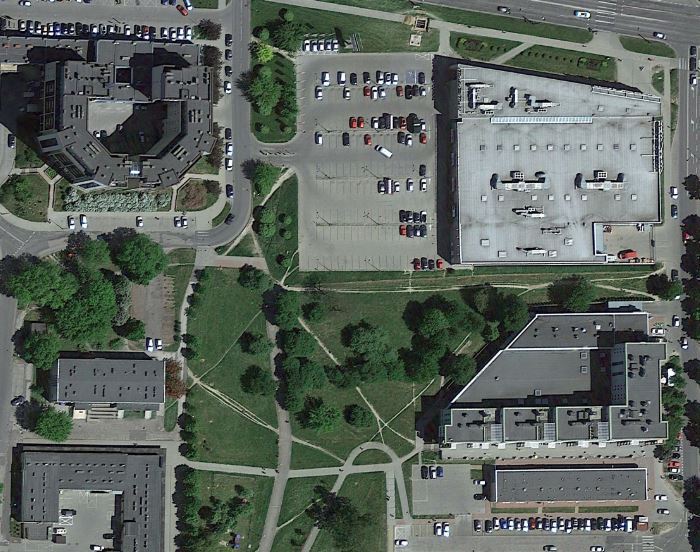block of flats: (431, 306, 671, 454), (25, 28, 219, 199), (11, 440, 173, 552), (478, 459, 655, 510), (43, 355, 170, 420)
shopping_center: (446, 57, 667, 269)
